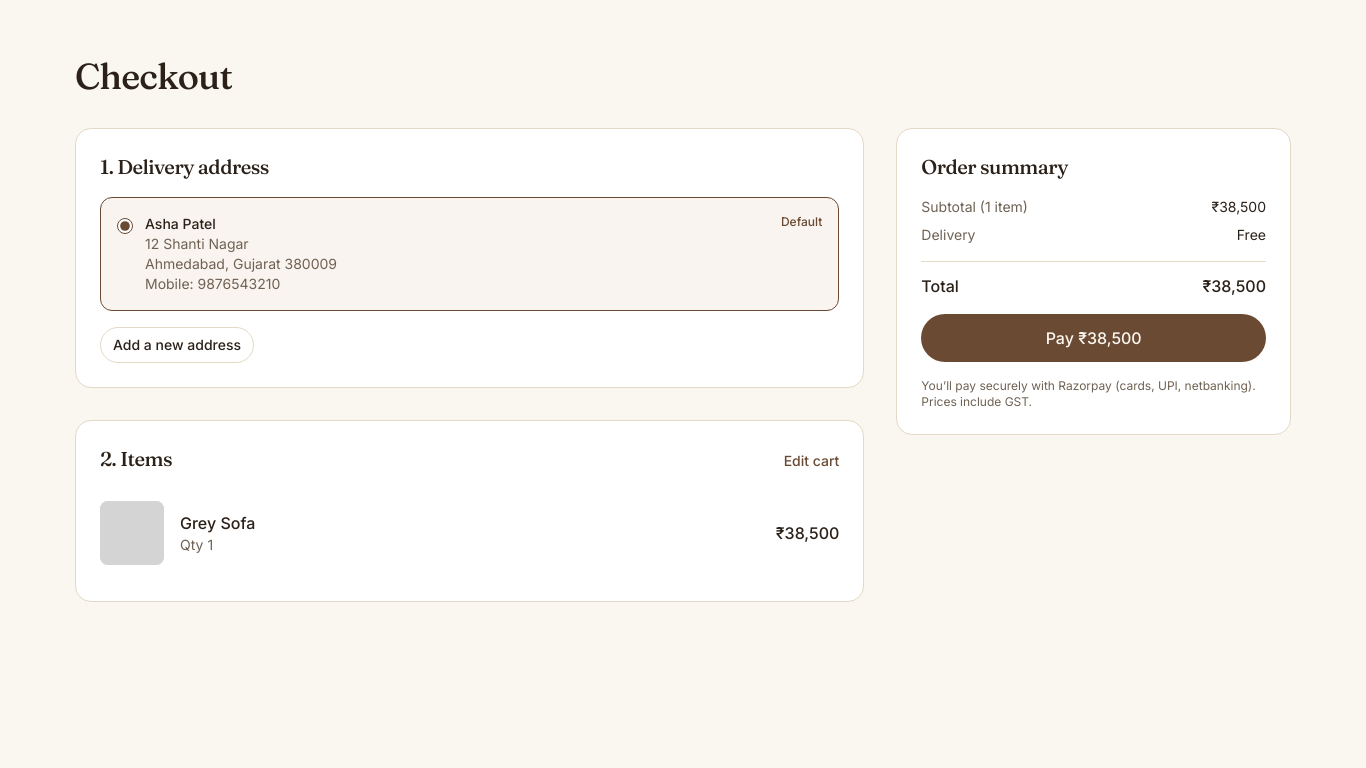
paying at checkout › closing Razorpay leaves an unpaid order the customer can pay or cancel
Click the button "Pay ₹38,500" at (1094, 338), box [921, 314, 1266, 362]
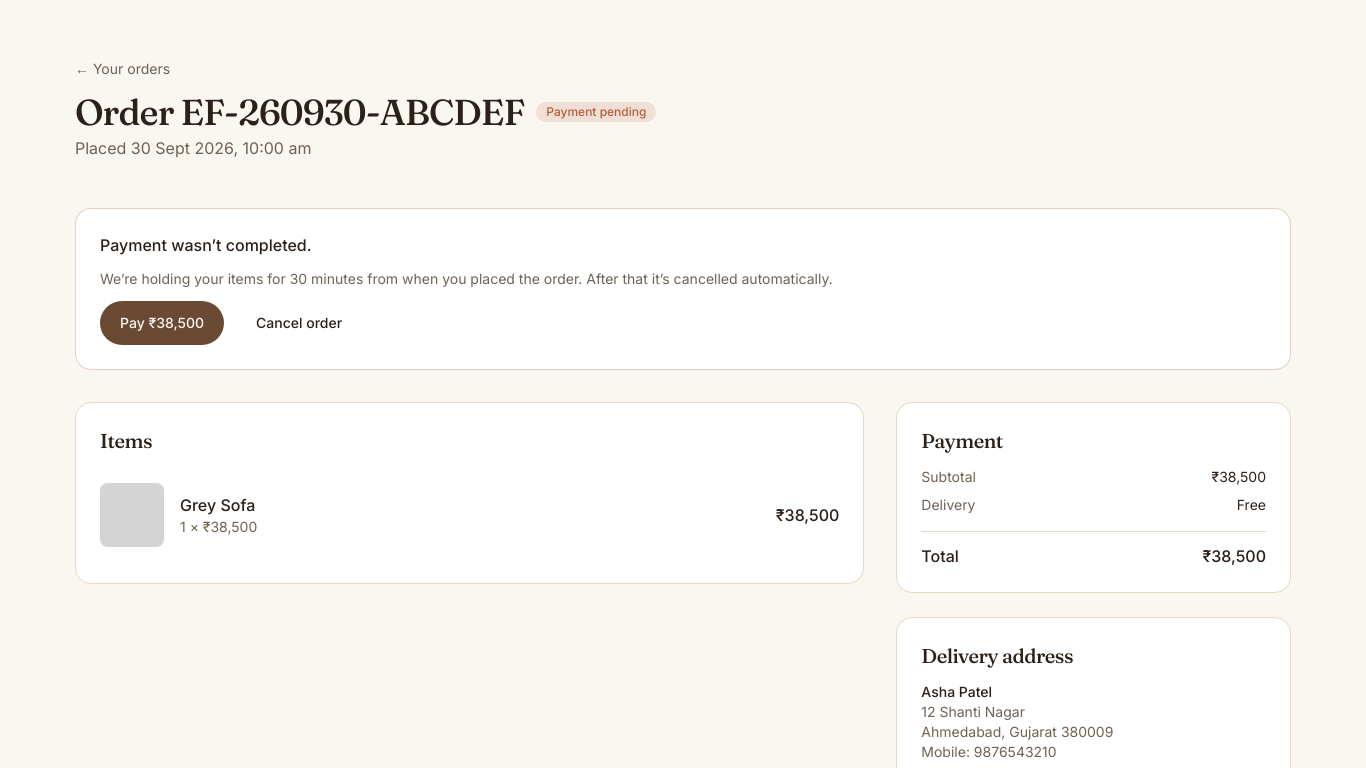
Expected: the button "Pay ₹38,500" is enabled, [100, 301, 224, 345]
Now the element named "Complete payment" shows "Payment wasn’t completed.", box [100, 235, 312, 255]
Now the button "Cancel order" is shown, box [236, 301, 362, 345]
